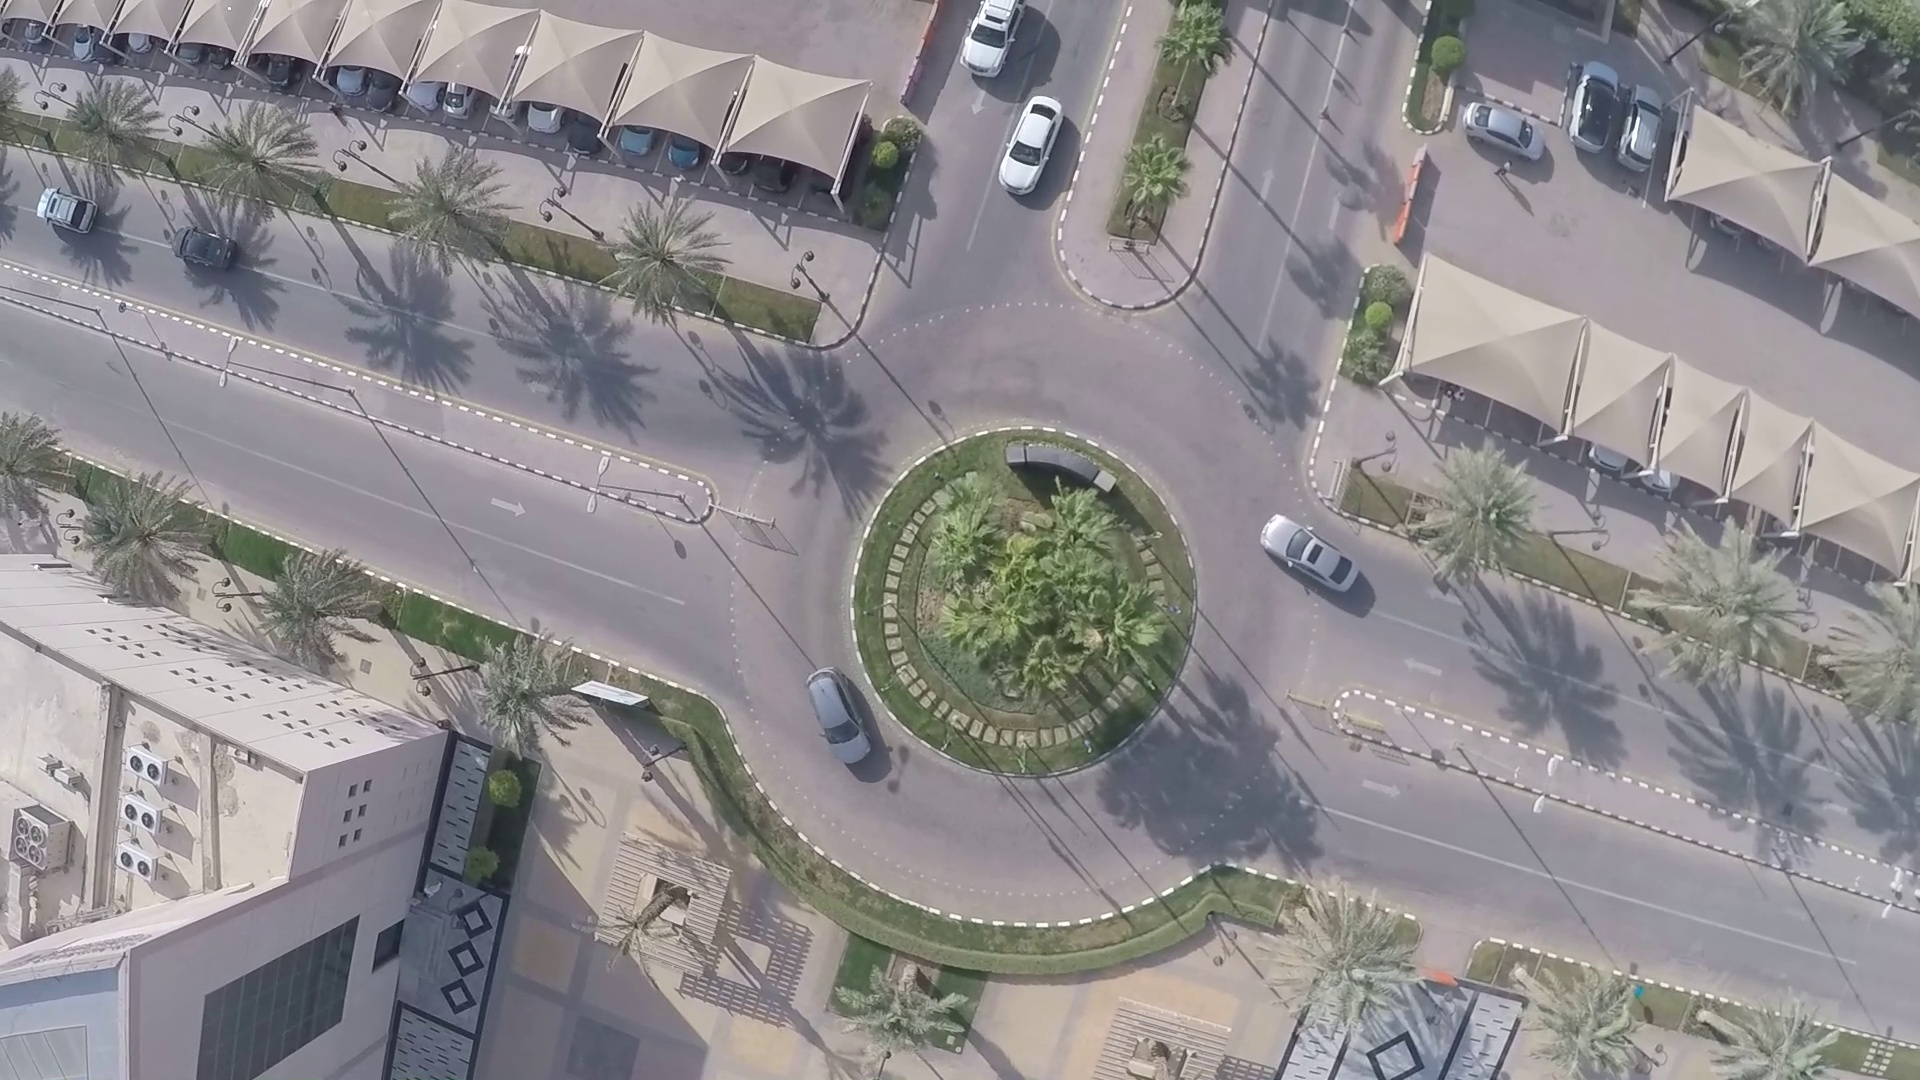car: (1261, 510, 1377, 600), (804, 676, 881, 774), (996, 104, 1058, 203)
